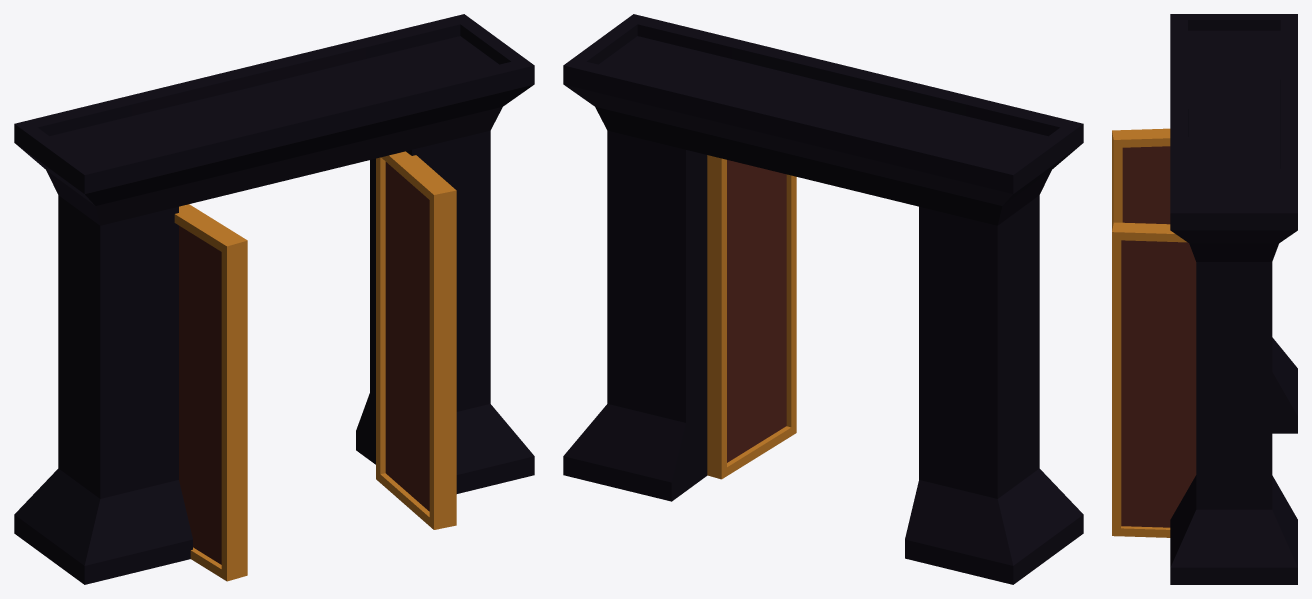
The model's file is VaultOPEN.fbx.
3 renders of one model, left to right at view 1: azimuth 30°, elevation 25°; view 2: azimuth 150°, elevation 25°; view 3: azimuth 270°, elevation 25°, orthographic. The views are drawn at different scales.
Visible parts, largest first — view 1: Cube.001, Cube.002; view 2: Cube.001, Cube.002; view 3: Cube.001, Cube.002.
Boxes of the visible parts, x1,y1,x2,y2 form: Cube.001: (14,14,534,584); Cube.002: (174,151,456,581); Cube.001: (563,14,1083,584); Cube.002: (707,155,796,479); Cube.001: (1170,14,1297,584); Cube.002: (1112,128,1196,537).
Bounding box in the file's own units: 2298 × 2000 × 907.
